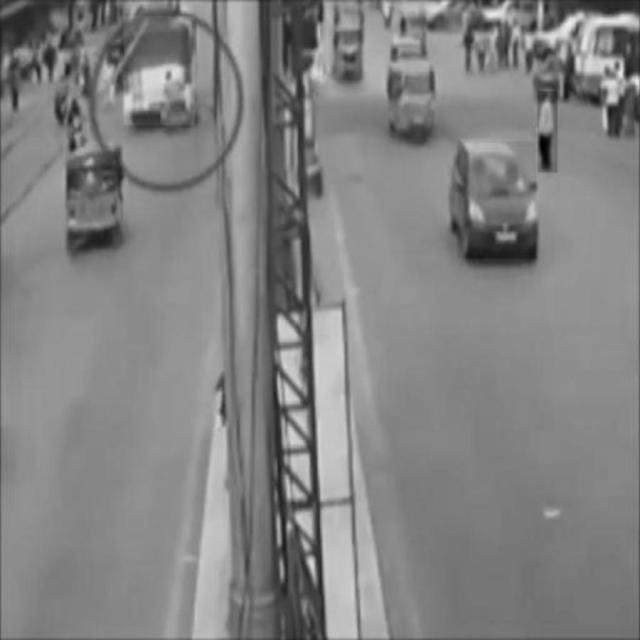accident: (124, 17, 195, 125)
person: (539, 91, 559, 172)
vehicle: (458, 141, 536, 259), (66, 145, 123, 251), (386, 61, 434, 141)
